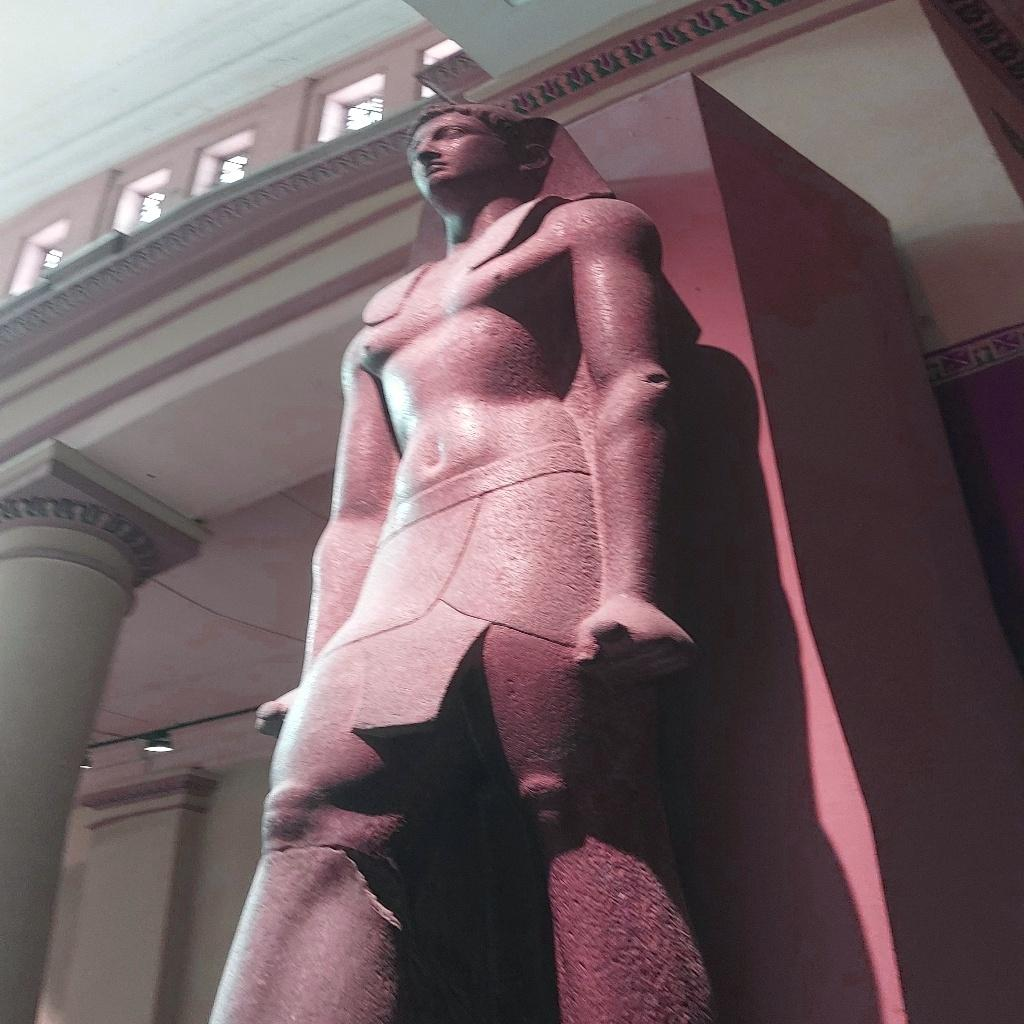Augustus: (208, 102, 718, 1020)
